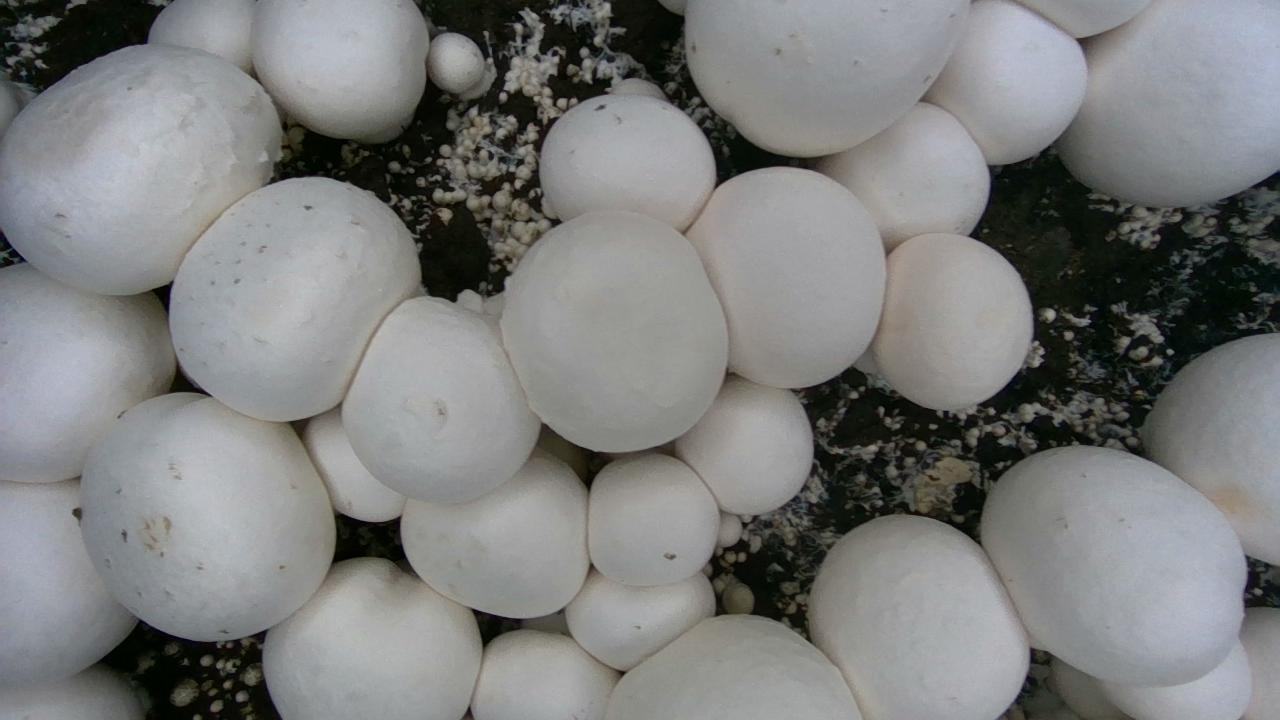WB: (0, 45, 281, 294), (981, 446, 1244, 685), (80, 393, 334, 640), (169, 177, 420, 420), (500, 211, 727, 451), (1056, 0, 1279, 206), (808, 515, 1029, 718), (685, 0, 969, 156), (686, 167, 885, 387), (342, 297, 540, 503), (0, 263, 175, 482), (263, 558, 481, 719), (1142, 333, 1279, 564), (400, 451, 589, 618), (871, 233, 1032, 410), (0, 480, 136, 689), (923, 0, 1086, 164), (605, 615, 861, 719), (814, 102, 989, 251), (251, 0, 429, 142), (540, 93, 717, 230), (675, 375, 813, 515), (588, 453, 719, 585), (565, 569, 715, 670), (470, 629, 619, 719), (1099, 641, 1251, 719), (302, 406, 405, 521), (0, 664, 143, 719), (148, 0, 254, 72), (1018, 0, 1150, 37), (426, 32, 495, 99), (1240, 607, 1279, 719)
